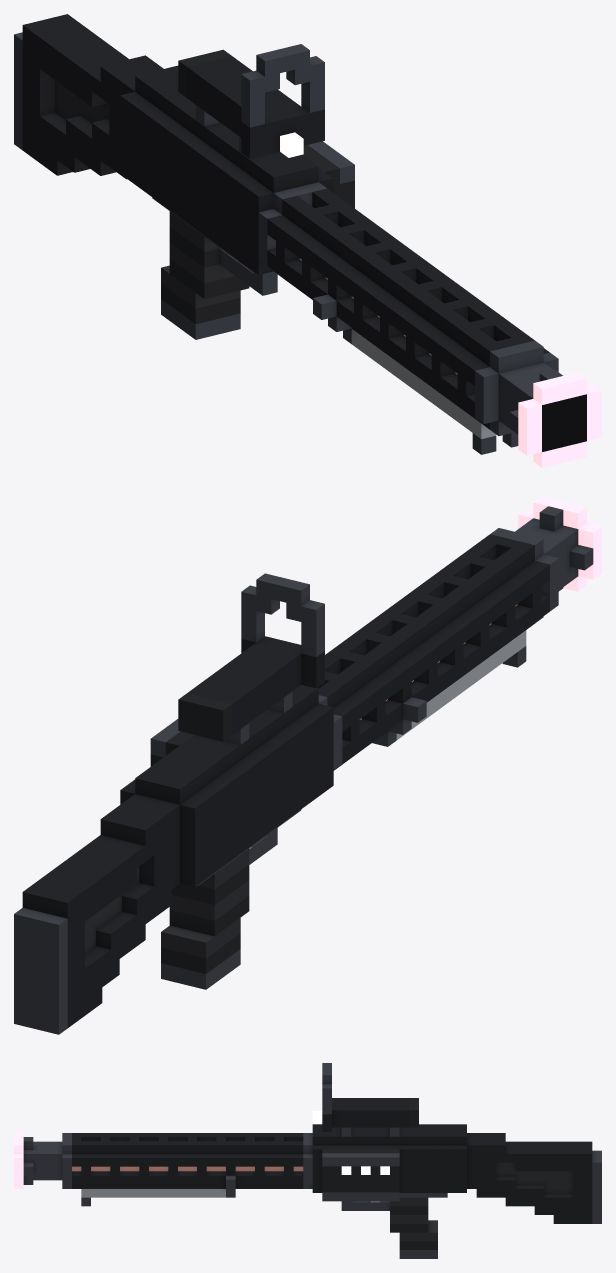
The model's file is imp_heavy.glb.
3 renders of one model, top to bottom at view 1: azimuth 30°, elevation 25°; view 2: azimuth 150°, elevation 25°; view 3: azimuth 270°, elevation 25°, orthographic. The views are drawn at different scales.
Parts seen in each view (by area): view 1: imp_heavy_body; view 2: imp_heavy_body; view 3: imp_heavy_body.
Part boxes in pixels (x1,y1,x2,y2): imp_heavy_body: (14, 14, 601, 467); imp_heavy_body: (14, 496, 601, 1034); imp_heavy_body: (14, 1063, 601, 1258).
Bounding box in the file's own units: 0.3125 × 0.8203 × 2.38.
1 material, 1 textured.
